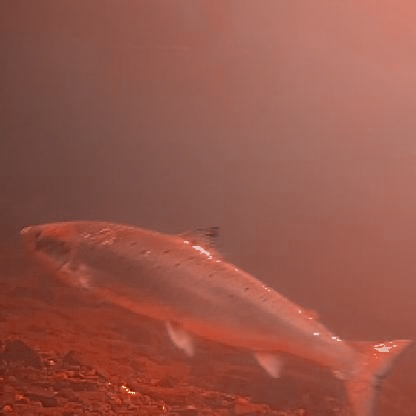salmon: (12, 213, 411, 414)
